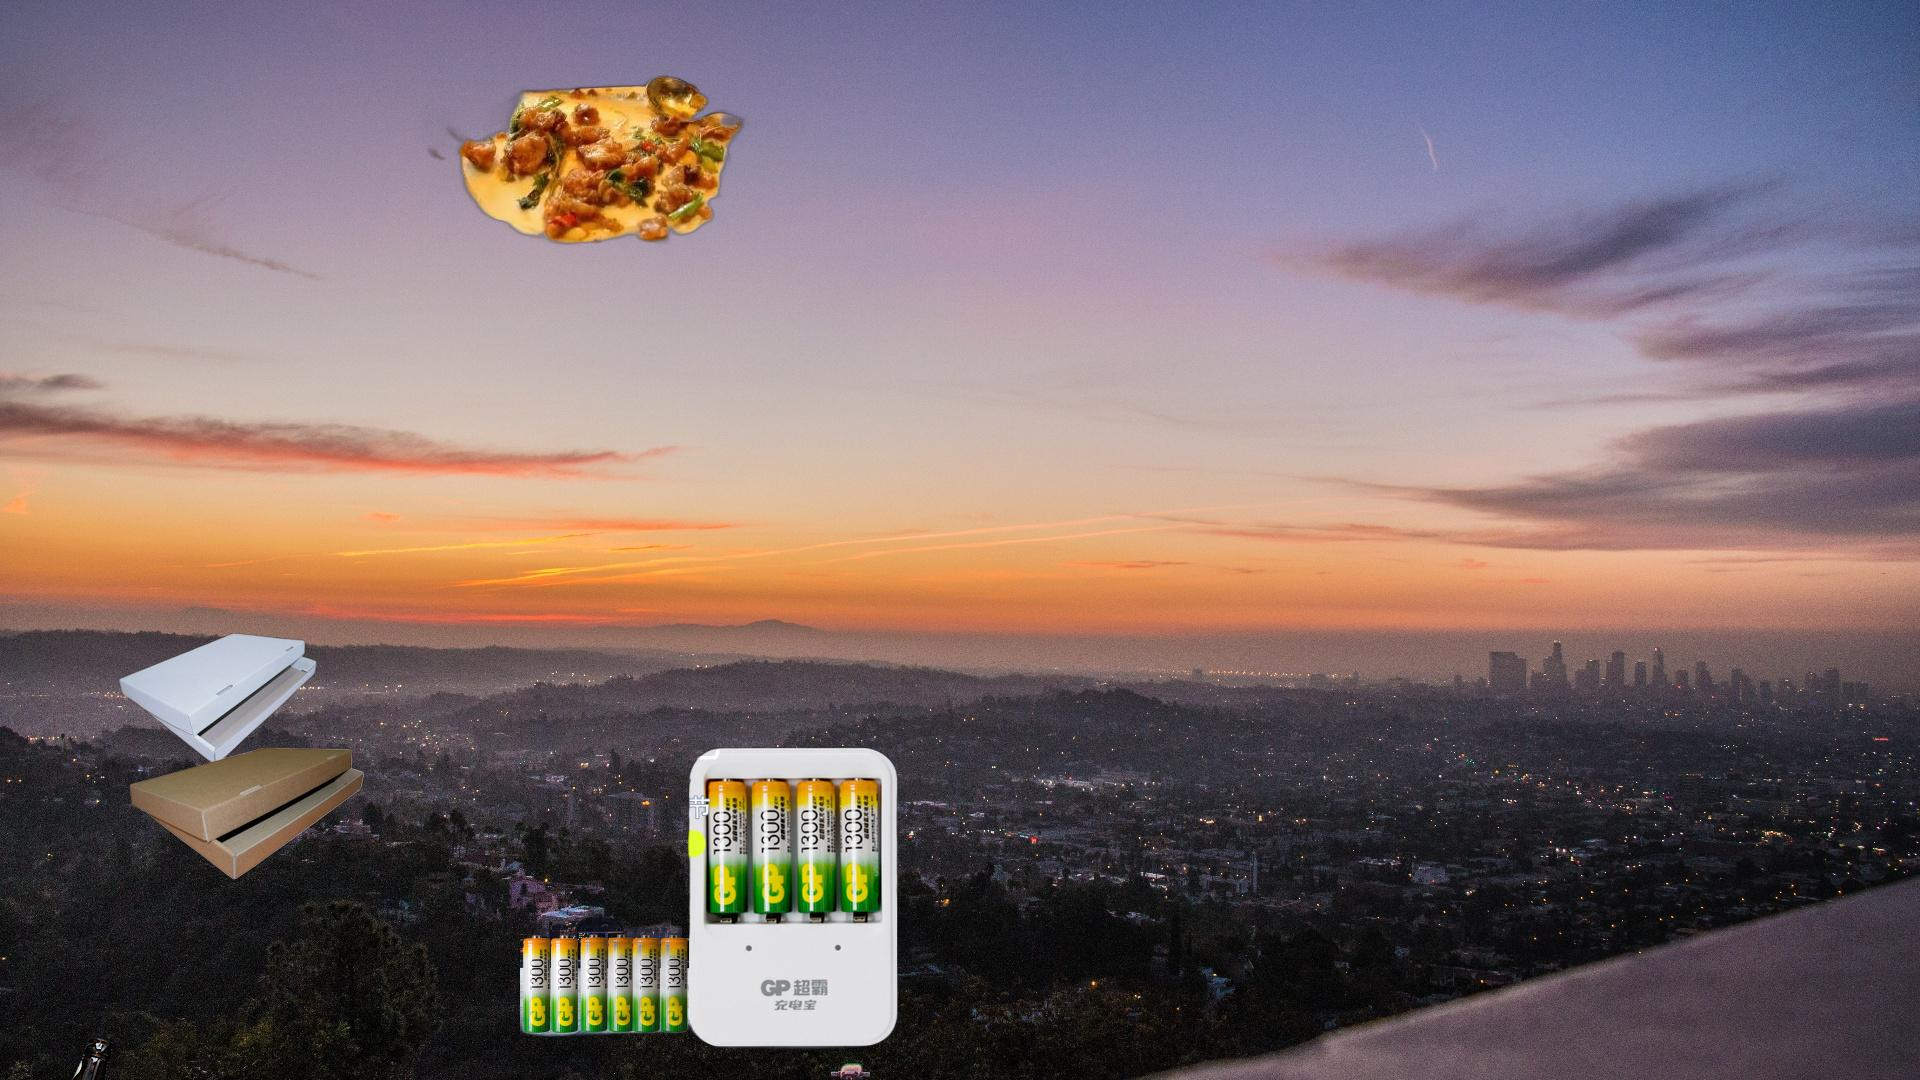battery: (520, 744, 902, 1054)
biological: (372, 74, 779, 249)
glass: (3, 1031, 117, 1080)
penholder: (1460, 922, 1920, 1080)
trashbox-cardboard: (116, 632, 367, 882)
